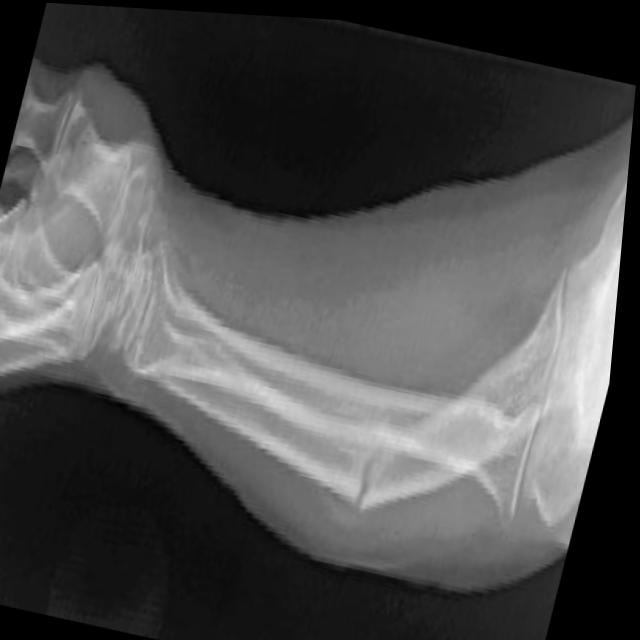fracture: (342, 395, 413, 543)
